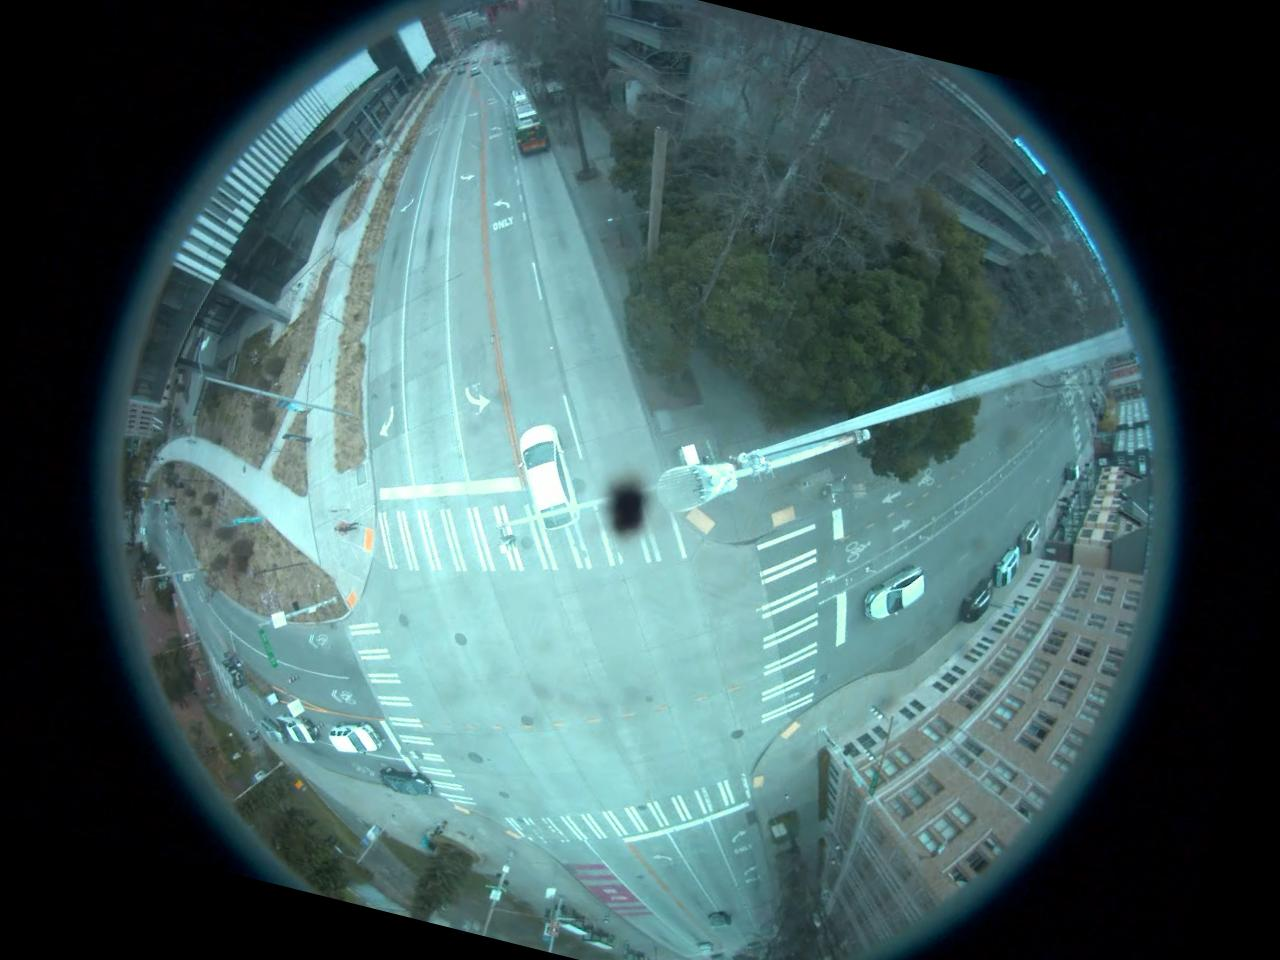bus: (493, 82, 561, 162)
car: (500, 415, 596, 532), (854, 550, 930, 633), (952, 569, 997, 627), (324, 718, 384, 760), (378, 766, 433, 802), (988, 540, 1024, 591), (276, 712, 321, 744), (1014, 513, 1043, 557), (253, 719, 290, 749), (700, 903, 735, 932)
person: (332, 515, 360, 539), (429, 816, 450, 842)
